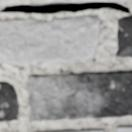brick: (28, 70, 131, 120), (0, 15, 99, 62), (0, 81, 18, 121), (115, 14, 131, 56), (41, 128, 103, 131), (116, 125, 131, 131), (94, 0, 127, 1), (0, 0, 7, 4)
crack: (0, 0, 130, 14)
